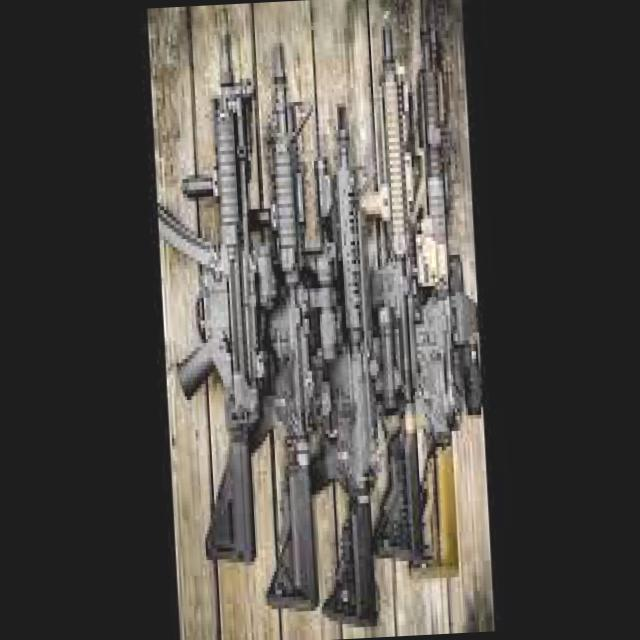long weapon: (150, 54, 278, 590), (218, 45, 336, 624), (377, 39, 490, 585), (290, 95, 396, 637), (344, 72, 436, 580)
